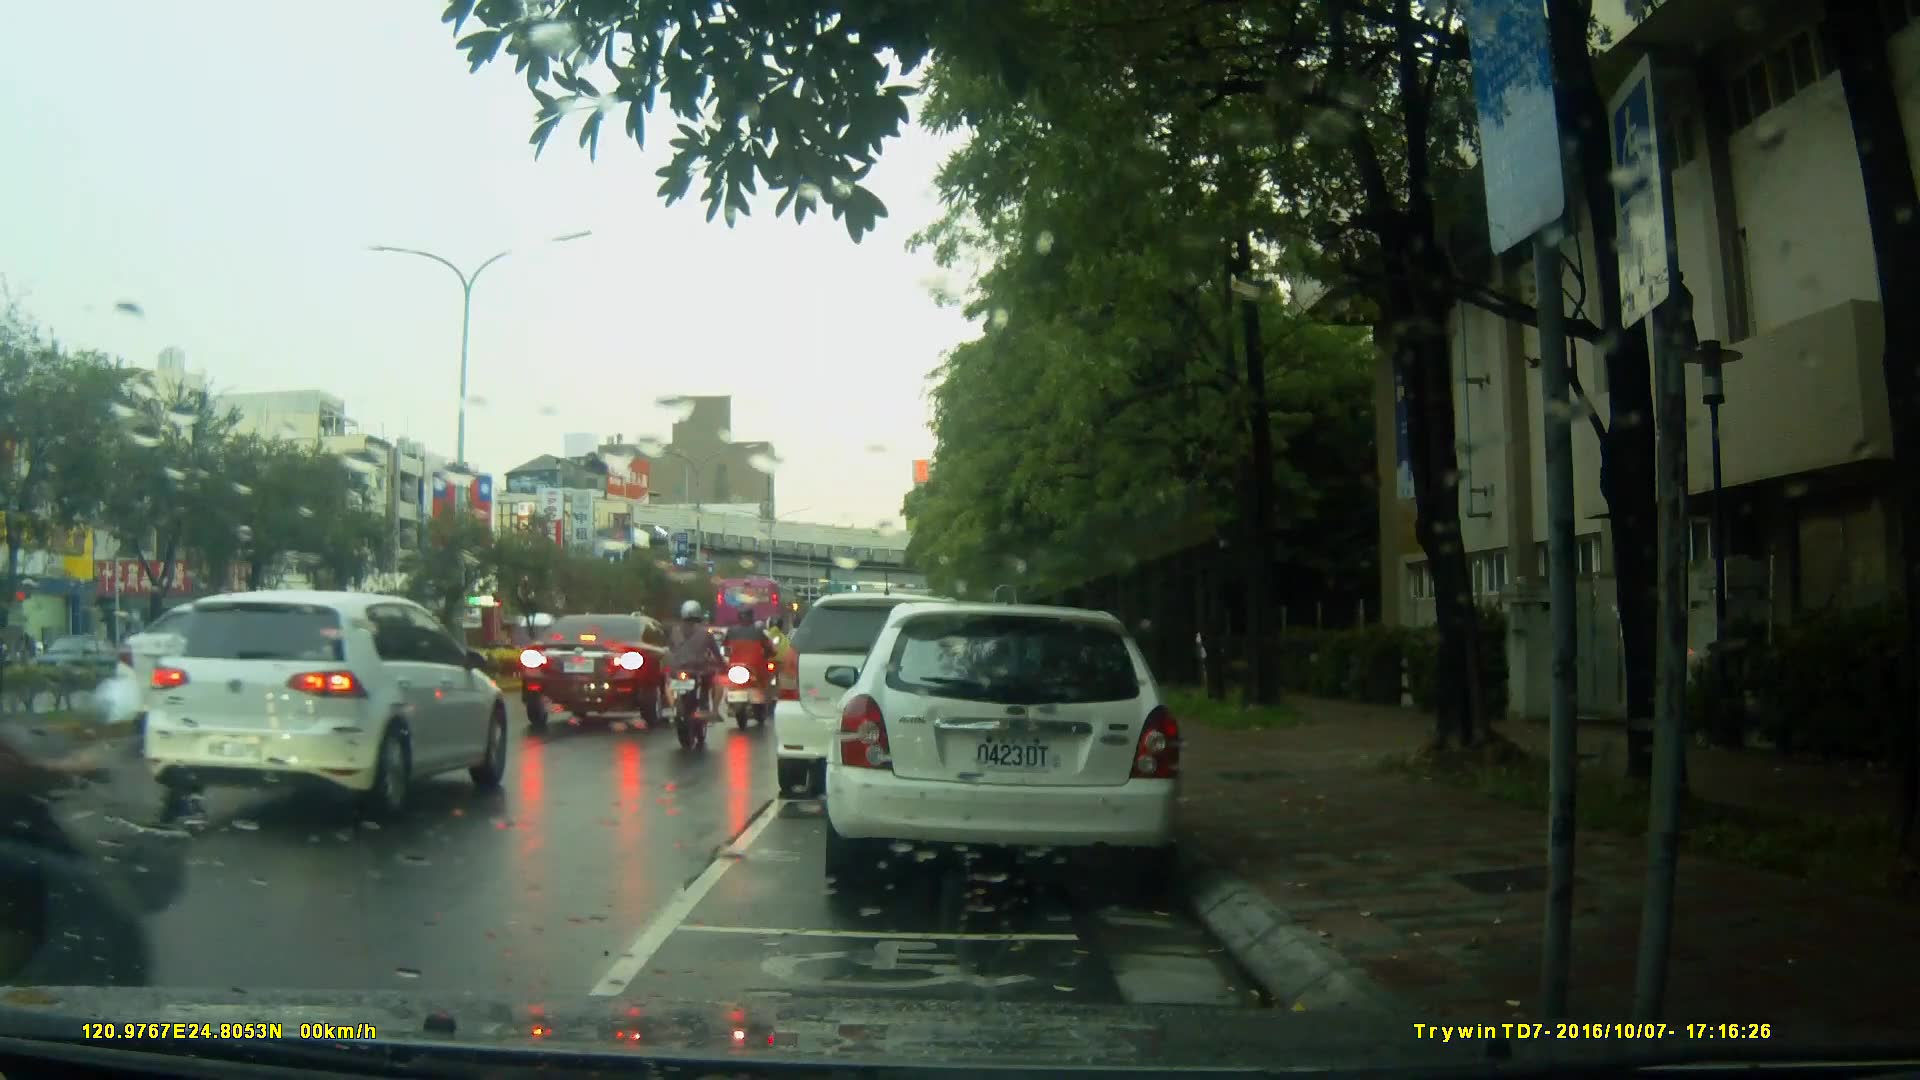rider: (664, 598, 722, 757), (722, 601, 776, 735), (757, 610, 796, 715)
vehicle: (835, 594, 1194, 898), (140, 586, 509, 824), (776, 590, 1026, 784), (519, 611, 697, 734), (714, 576, 801, 648)
